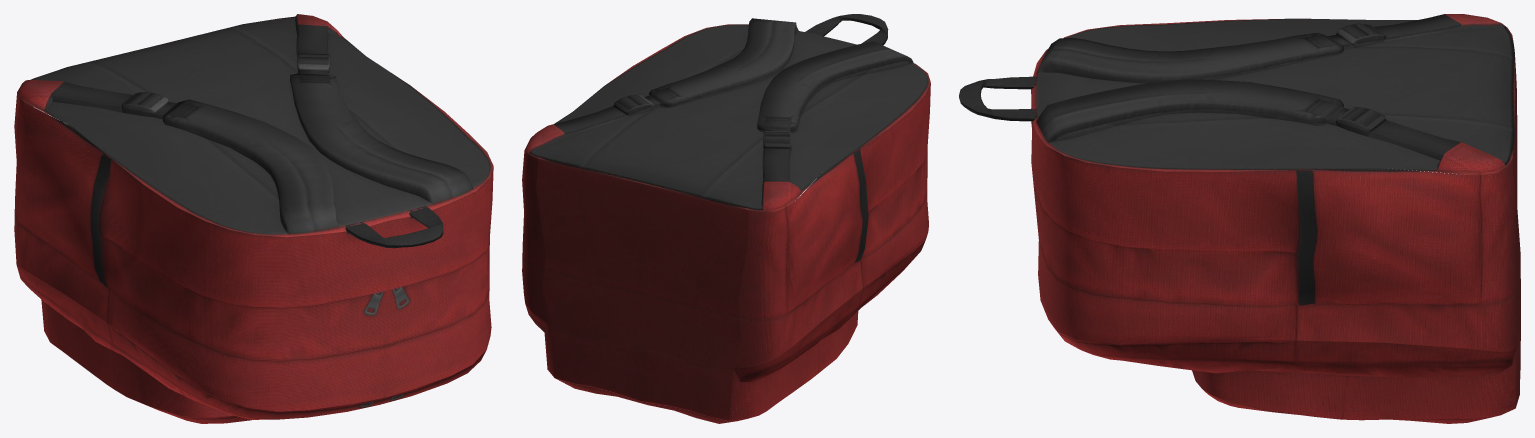
File: backpack.glb
3 views of the same model, side by side, from view 1: azimuth 30°, elevation 25°; view 2: azimuth 150°, elevation 25°; view 3: azimuth 270°, elevation 25° (orthographic). The views are drawn at different scales.
Visible parts, largest first — view 1: geometry_0; view 2: geometry_0; view 3: geometry_0.
Part boxes in pixels (x1,y1,x2,y2): geometry_0: (14, 14, 493, 423); geometry_0: (522, 14, 930, 423); geometry_0: (959, 14, 1520, 423).
Bounding box in the file's own units: 0.3284 × 0.2865 × 0.4743.
Materials: 1 (1 with a texture image).
